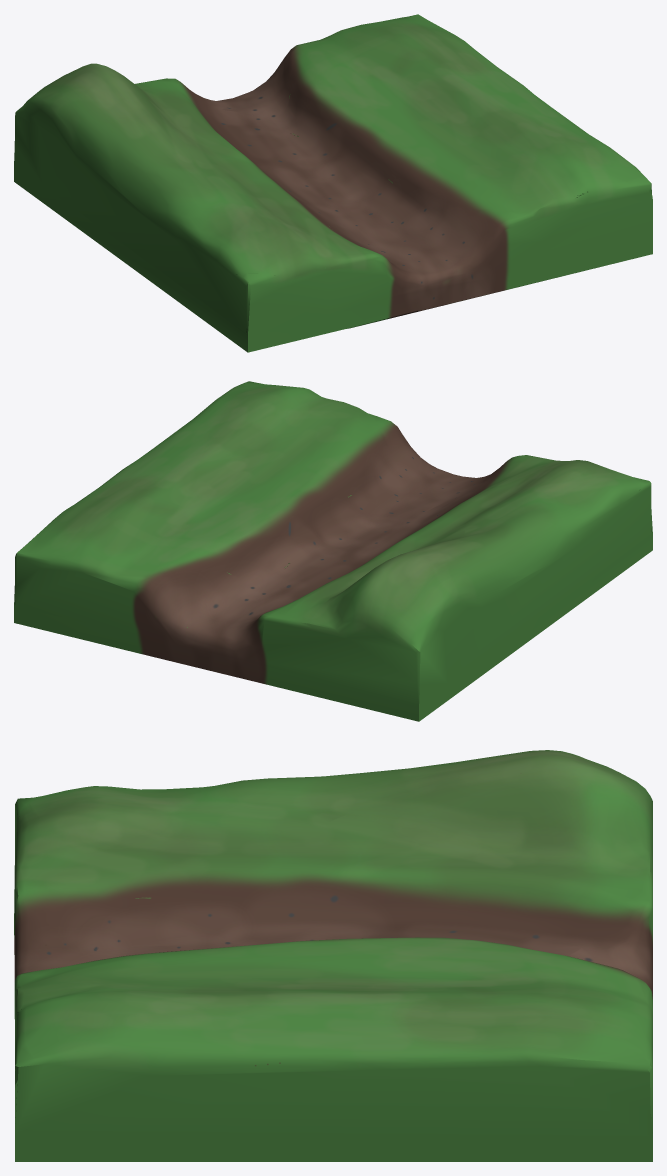
Rendered from maquetaRio.fbx.
3 renders of one model, top to bottom at view 1: azimuth 30°, elevation 25°; view 2: azimuth 150°, elevation 25°; view 3: azimuth 270°, elevation 25°, orthographic. The views are drawn at different scales.
Visible parts, largest first — view 1: Cube.003; view 2: Cube.003; view 3: Cube.003.
Part boxes in pixels (x1,y1,x2,y2): Cube.003: [14, 14, 652, 352]; Cube.003: [14, 381, 652, 721]; Cube.003: [14, 750, 652, 1161].
Bounding box in the file's own units: 200 × 58.81 × 200.
